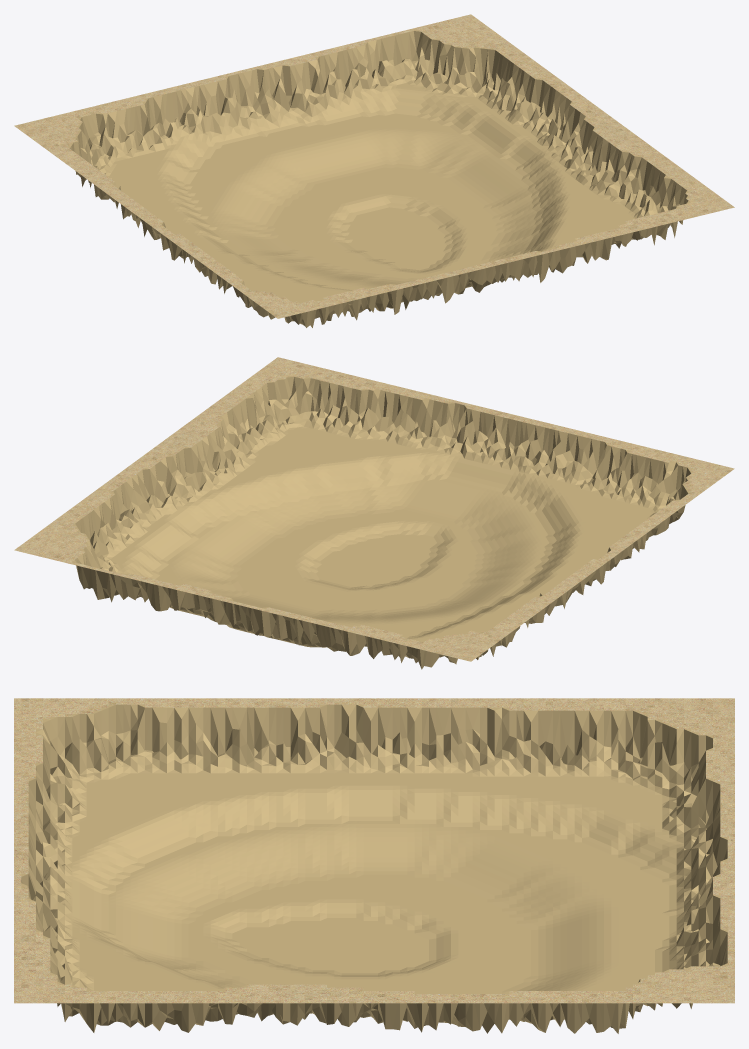
File: TestLevel.obj
The picture shows the model from 3 angles, top to bottom: view 1: azimuth 30°, elevation 25°; view 2: azimuth 150°, elevation 25°; view 3: azimuth 270°, elevation 25°; orthographic projection. The views are drawn at different scales.
Parts seen in each view (by area): view 1: Grid_Grid.001; view 2: Grid_Grid.001; view 3: Grid_Grid.001.
Part boxes in pixels (x1=…): Grid_Grid.001: x1=14, y1=14, x2=734, y2=327; Grid_Grid.001: x1=14, y1=357, x2=734, y2=669; Grid_Grid.001: x1=14, y1=698, x2=734, y2=1033.
Bounding box in the file's own units: 653 × 87.19 × 653.
